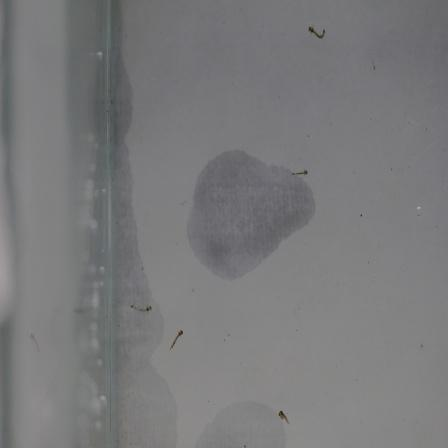Jentik-Nyamuk: (128, 297, 157, 323), (166, 324, 189, 356), (304, 22, 329, 44), (287, 166, 313, 181), (274, 405, 291, 426)
